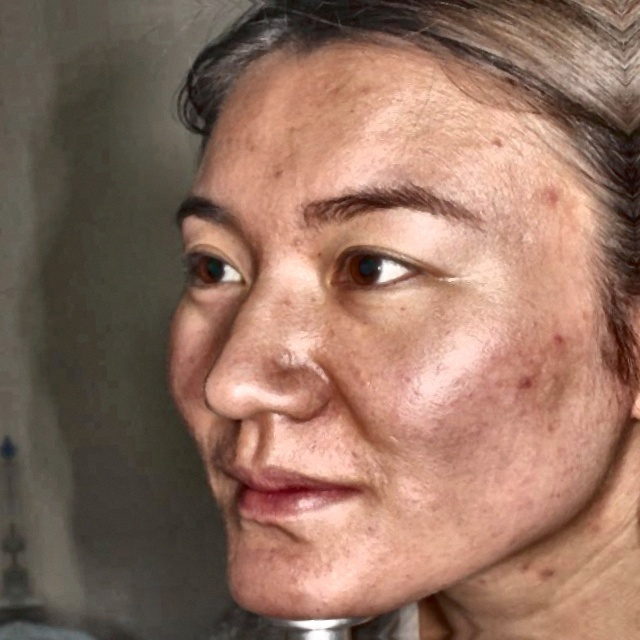comedone: (528, 182, 568, 218), (533, 327, 570, 359)
